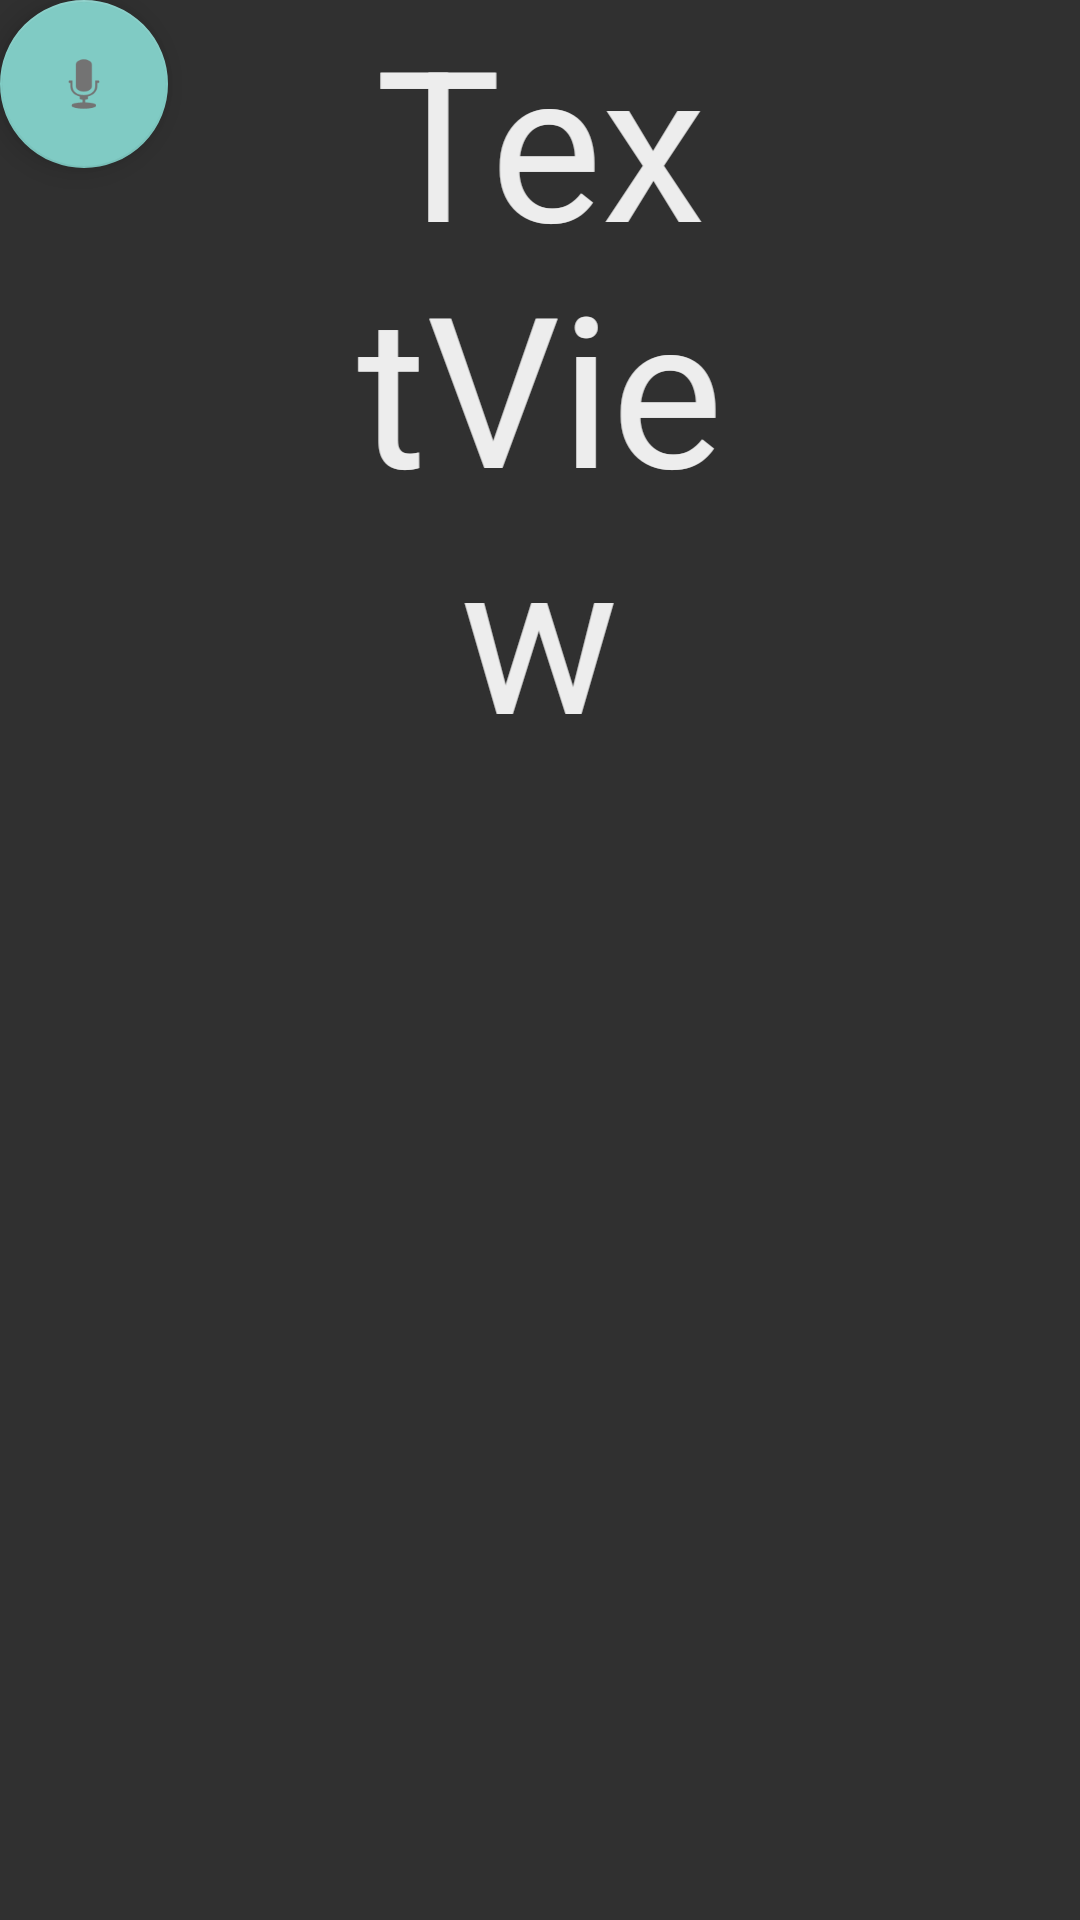

Screen size 1080×1920. Icon name, then its center in pixels as (x=x, y=y):
speak now: (x=84, y=84)
